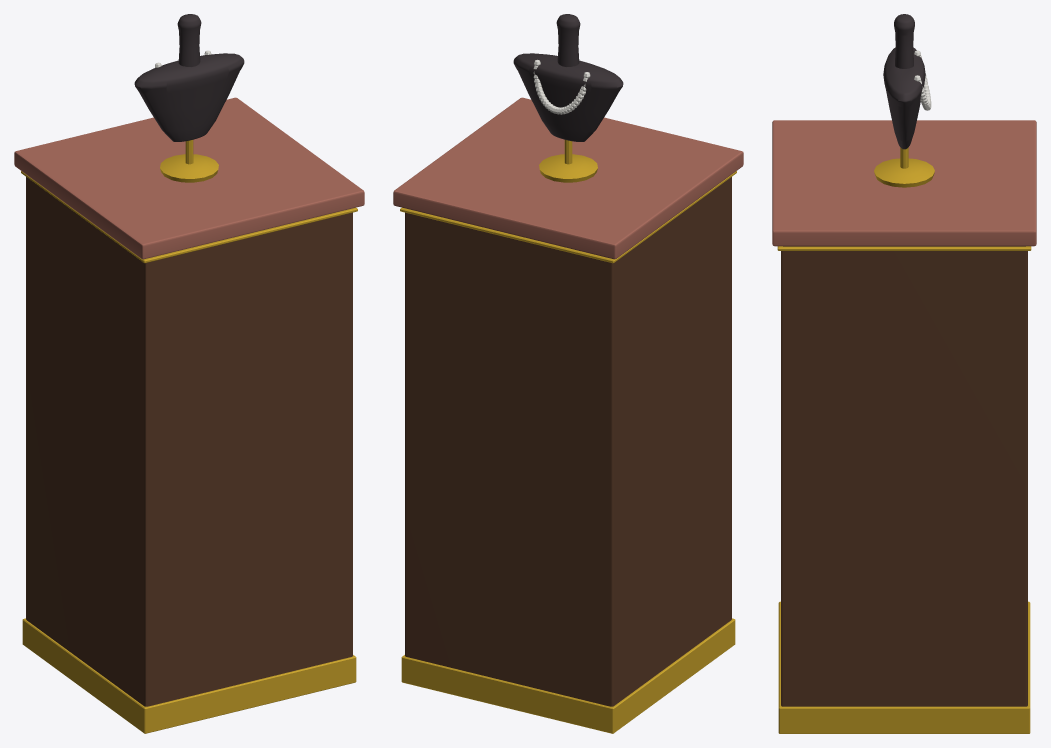
The model's file is prop_podium_bust.glb.
The picture shows the model from 3 angles, left to right: view 1: azimuth 30°, elevation 25°; view 2: azimuth 150°, elevation 25°; view 3: azimuth 270°, elevation 25°; orthographic projection. The views are drawn at different scales.
Parts seen in each view (by area): view 1: Podium; view 2: Podium; view 3: Podium.
Boxes of the visible parts, <box> form: Podium: <box>14,14,364,733</box>; Podium: <box>393,14,743,733</box>; Podium: <box>772,14,1036,733</box>.
Size of what is drawn, in the model's own units: 0.45 by 1.25 by 0.45.
